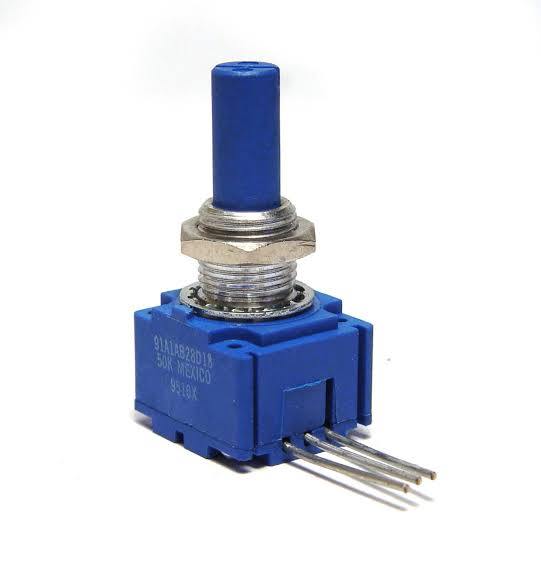Potentiometer: (121, 55, 439, 501)
